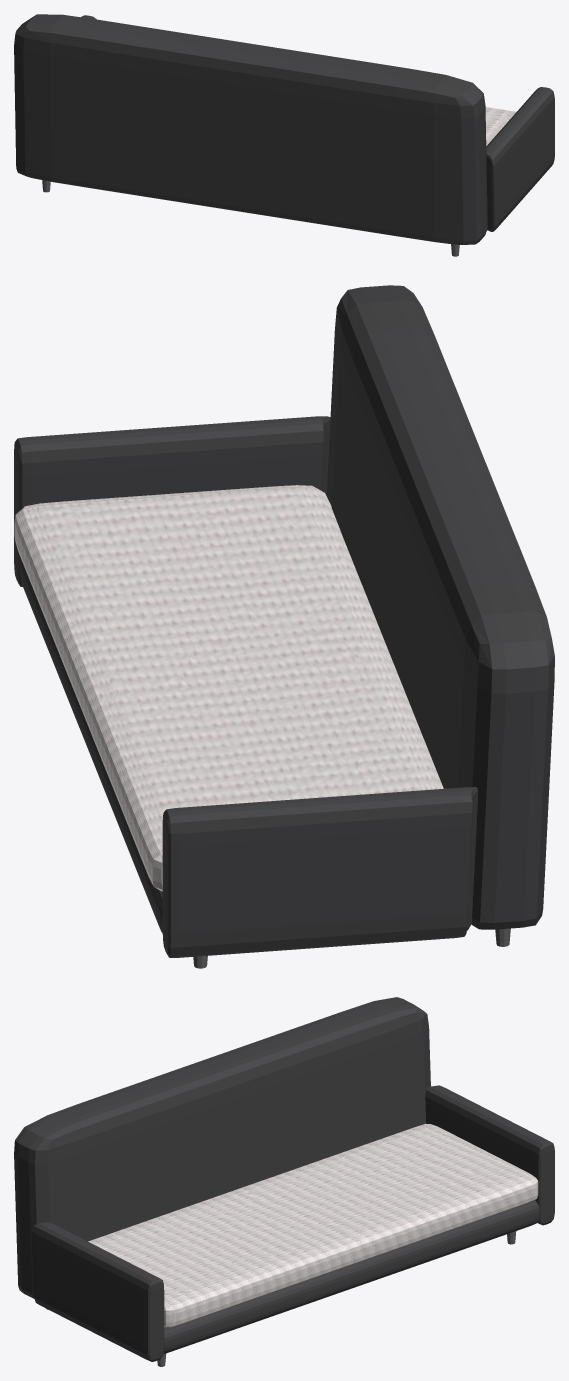
The model's file is couch-big.gltf.
3 views of the same model, one above another, from view 1: azimuth 30°, elevation 25°; view 2: azimuth 150°, elevation 25°; view 3: azimuth 270°, elevation 25° (orthographic). The views are drawn at different scales.
Parts seen in each view (by area): view 1: Cube, Cube.002, Cube.004; view 2: Cube.004, Cube, Cube.003, Cube.002, Cube.001; view 3: Cube, Cube.004, Cube.002, Cube.001, Cube.003.
Part boxes in pixels (x1=…): Cube: x1=14, y1=14, x2=487, y2=244; Cube.002: x1=486, y1=87, x2=554, y2=231; Cube.004: x1=485, y1=107, x2=516, y2=145; Cube.004: x1=14, y1=485, x2=443, y2=891; Cube: x1=326, y1=285, x2=554, y2=929; Cube.003: x1=162, y1=787, x2=478, y2=957; Cube.002: x1=14, y1=416, x2=330, y2=586; Cube.001: x1=20, y1=559, x2=162, y2=932; Cube: x1=14, y1=997, x2=430, y2=1298; Cube.004: x1=88, y1=1123, x2=538, y2=1327; Cube.002: x1=31, y1=1222, x2=164, y2=1361; Cube.001: x1=163, y1=1200, x2=539, y2=1353; Cube.003: x1=425, y1=1085, x2=554, y2=1225.
Bounding box in the file's own units: 2.05 × 0.8246 × 2.21.
Materials: 3 (1 with a texture image).
